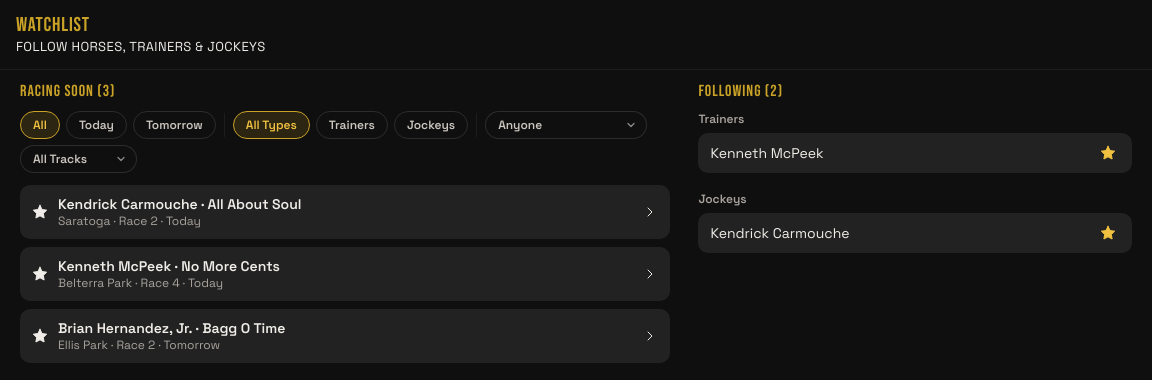
Test case: WatchlistPage racing-soon filters › filters by entity type
This screenshot has width=1152, height=380.
Expected: the text "Kendrick Carmouche · All About Soul" is shown, [58,195,302,213]
Click the button "Trainers".
click(352, 125)  # box [316,111,388,139]
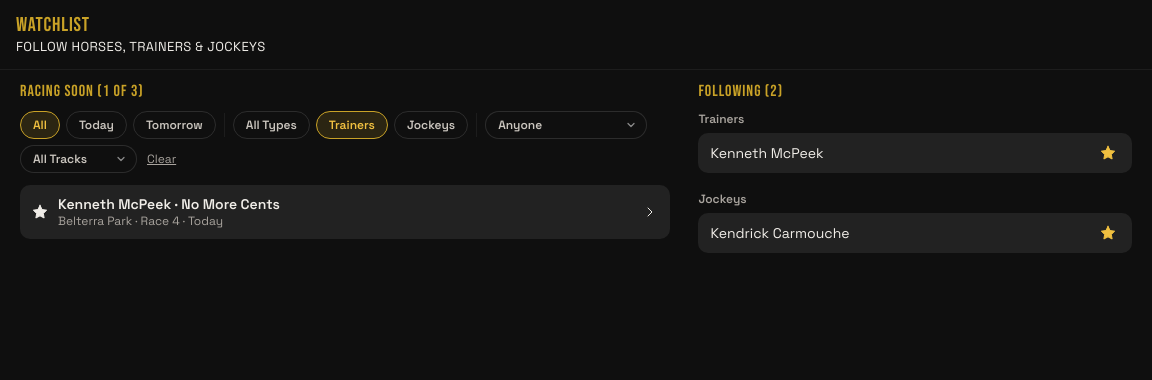
Result: the text "Kenneth McPeek · No More Cents" is shown at [58,195,280,213]
Result: the text "All About Soul" is gone
